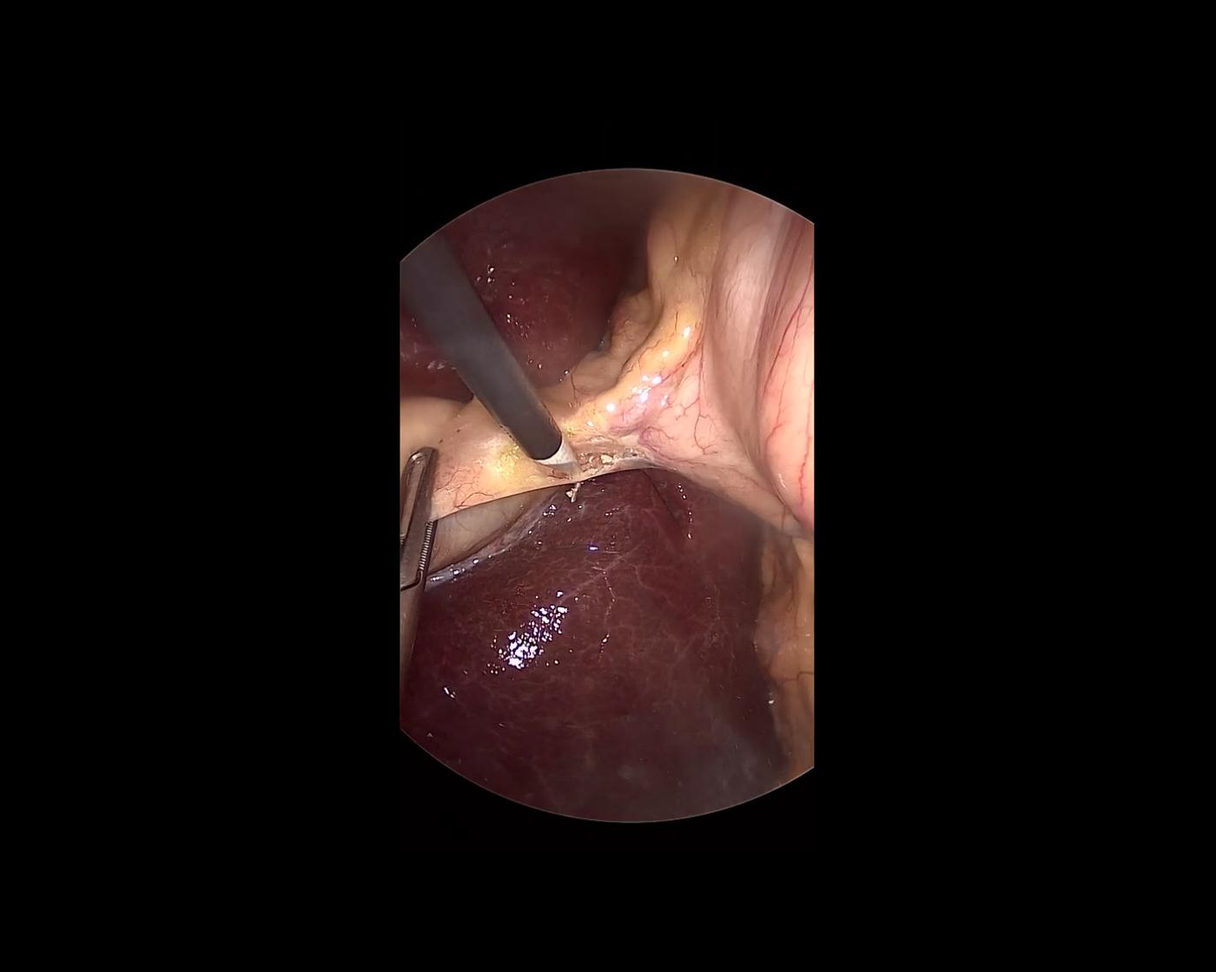Cautery: (383, 232, 586, 508)
Forceps: (386, 444, 439, 667)
Gallbladder: (364, 344, 659, 583)
Liver: (372, 452, 798, 852), (391, 174, 635, 403)
